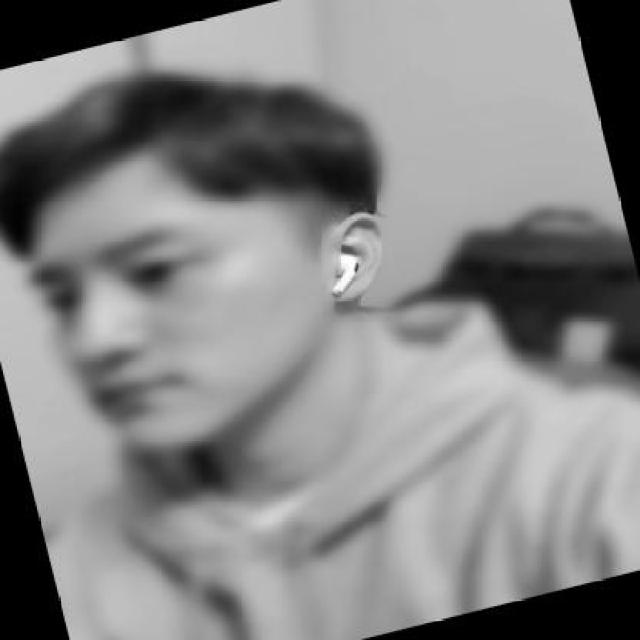earphone: (326, 241, 366, 310)
